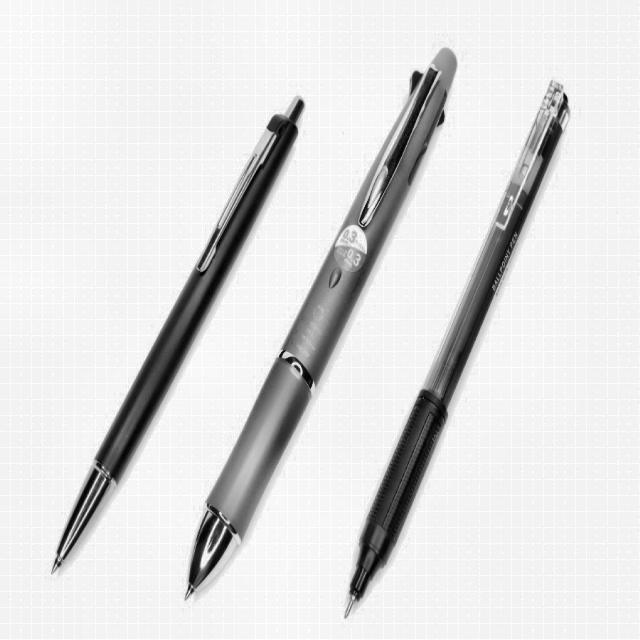Pen: (50, 36, 568, 624)
